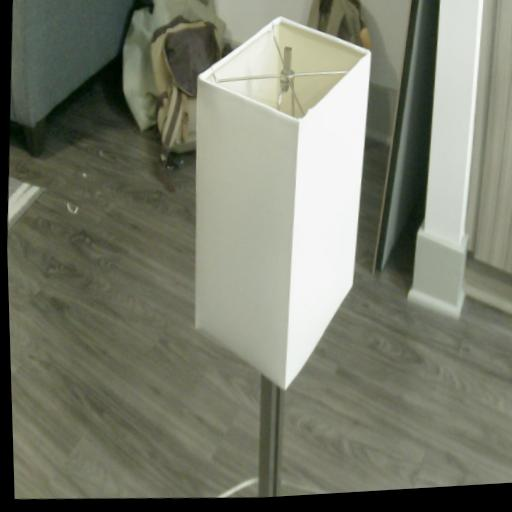lamp: (173, 6, 384, 502)
